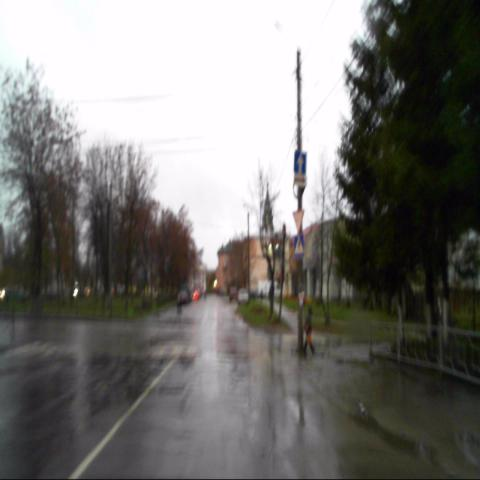2_4: (293, 210, 304, 234)
5_5: (294, 151, 306, 174)
